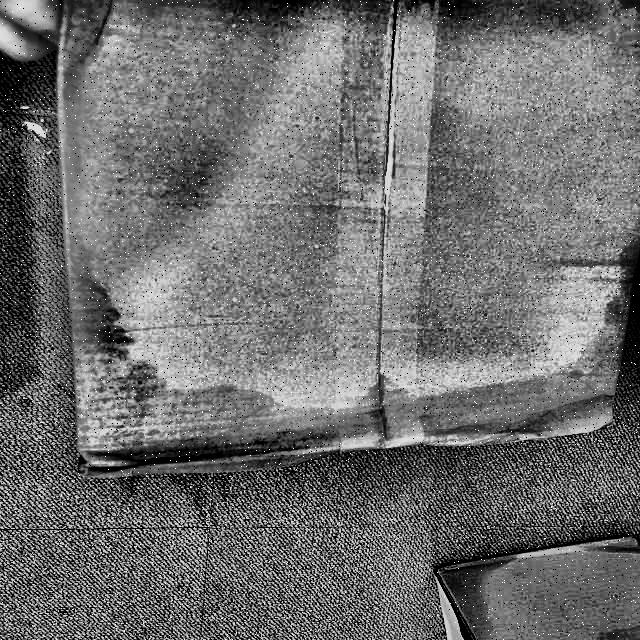box: (54, 1, 639, 485)
wet: (78, 255, 352, 471), (412, 256, 633, 442), (55, 1, 124, 207)
